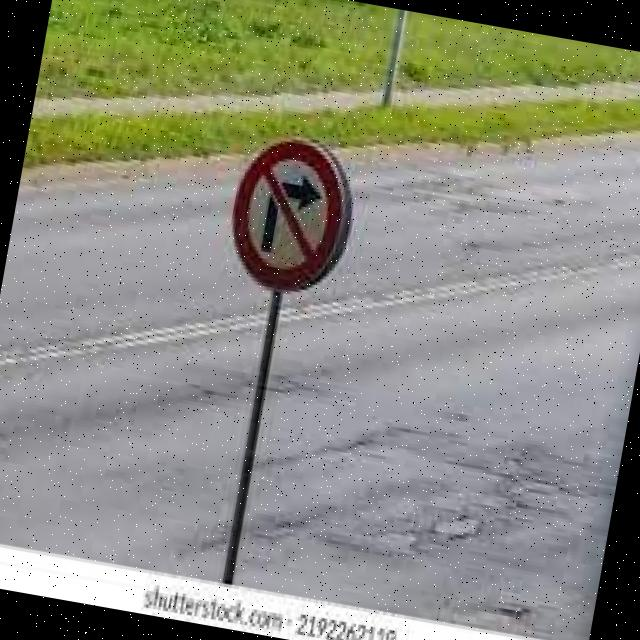do_not_turn_right: (208, 122, 361, 311)
